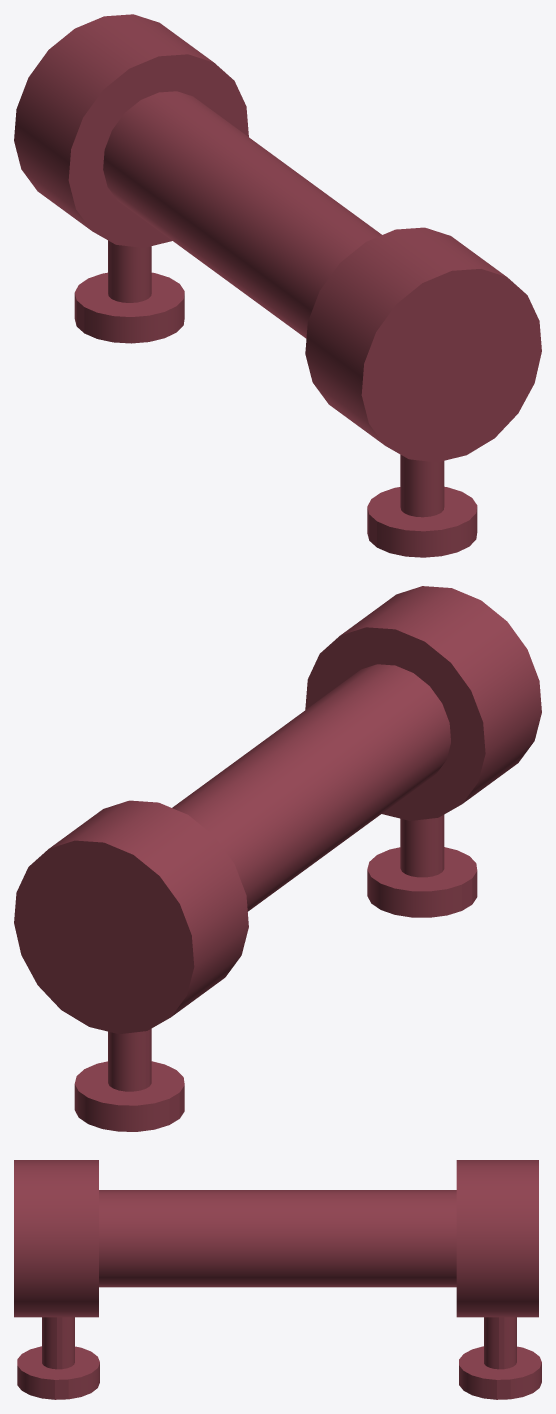
The picture shows the model from 3 angles, top to bottom: view 1: azimuth 30°, elevation 25°; view 2: azimuth 150°, elevation 25°; view 3: azimuth 270°, elevation 25°; orthographic projection. The views are drawn at different scales.
Visible parts, largest first — view 1: Cylinder.001; view 2: Cylinder.001; view 3: Cylinder.001.
Boxes of the visible parts, <box> form: Cylinder.001: <box>14,14,541,557</box>; Cylinder.001: <box>14,586,541,1131</box>; Cylinder.001: <box>14,1160,541,1399</box>.
Size of the model in its own units: 1.9 by 2.87 by 6.38.
